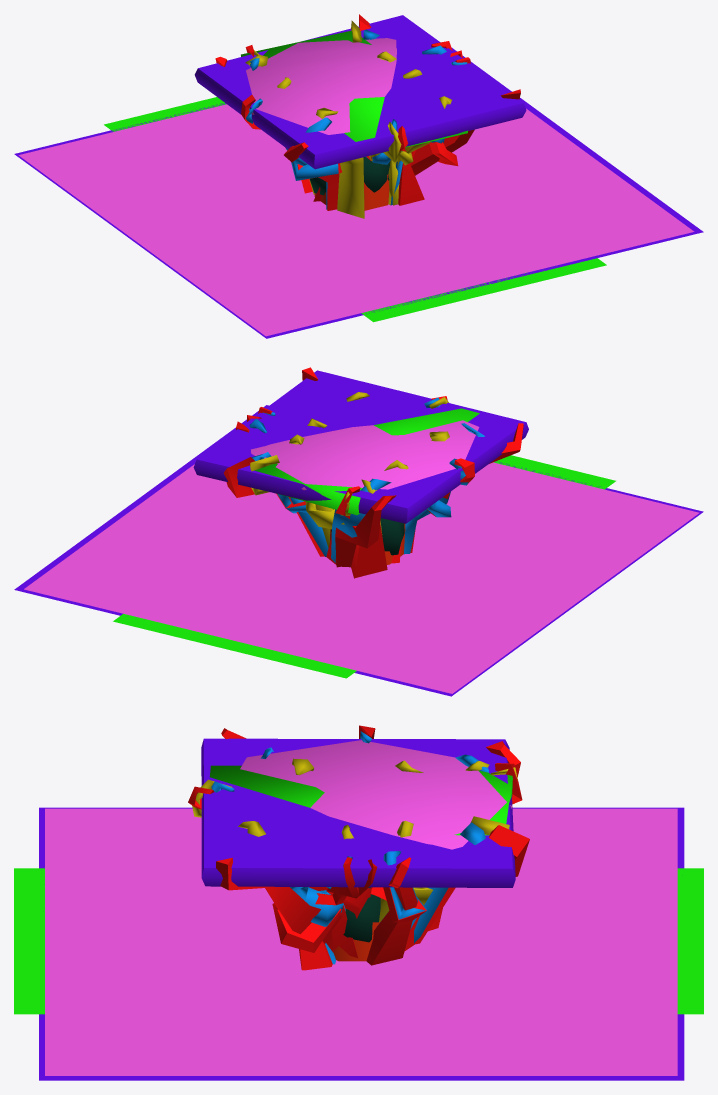
File: Mobilier_freja.FBX
3 views of the same model, one above another, from view 1: azimuth 30°, elevation 25°; view 2: azimuth 150°, elevation 25°; view 3: azimuth 270°, elevation 25° (orthographic). The views are drawn at different scales.
Parts seen in each view (by area): view 1: table_6_retopo_UV, table_8_retop_UV, table_4_retopo_UV, chaise; view 2: table_6_retopo_UV, table_8_retop_UV, table_4_retopo_UV, chaise; view 3: table_6_retopo_UV, table_8_retop_UV, table_4_retopo_UV, chaise.
Part boxes in pixels (x1,y1,x2,y2): table_6_retopo_UV: (18, 29, 694, 336); table_8_retop_UV: (14, 14, 703, 338); table_4_retopo_UV: (104, 20, 606, 322); chaise: (309, 157, 390, 210); table_6_retopo_UV: (24, 397, 699, 693); table_8_retop_UV: (14, 367, 703, 696); table_4_retopo_UV: (113, 392, 615, 678); chaise: (330, 509, 405, 564); table_6_retopo_UV: (45, 731, 677, 1075); table_8_retop_UV: (39, 725, 684, 1080); table_4_retopo_UV: (14, 758, 703, 1014); chaise: (333, 887, 380, 961).
Size of the model in its own units: 335 by 358 by 98.15.
